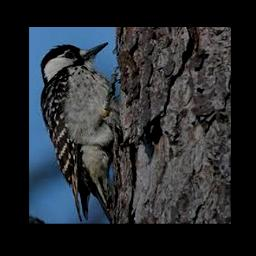Woodpecker: (39, 42, 141, 223)
